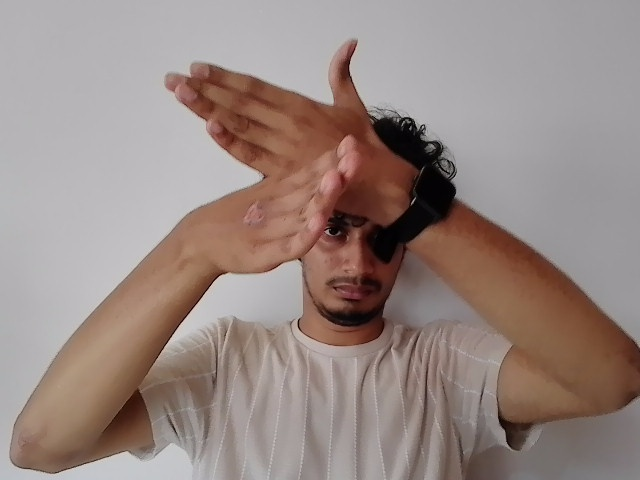busy: (159, 38, 415, 276)
